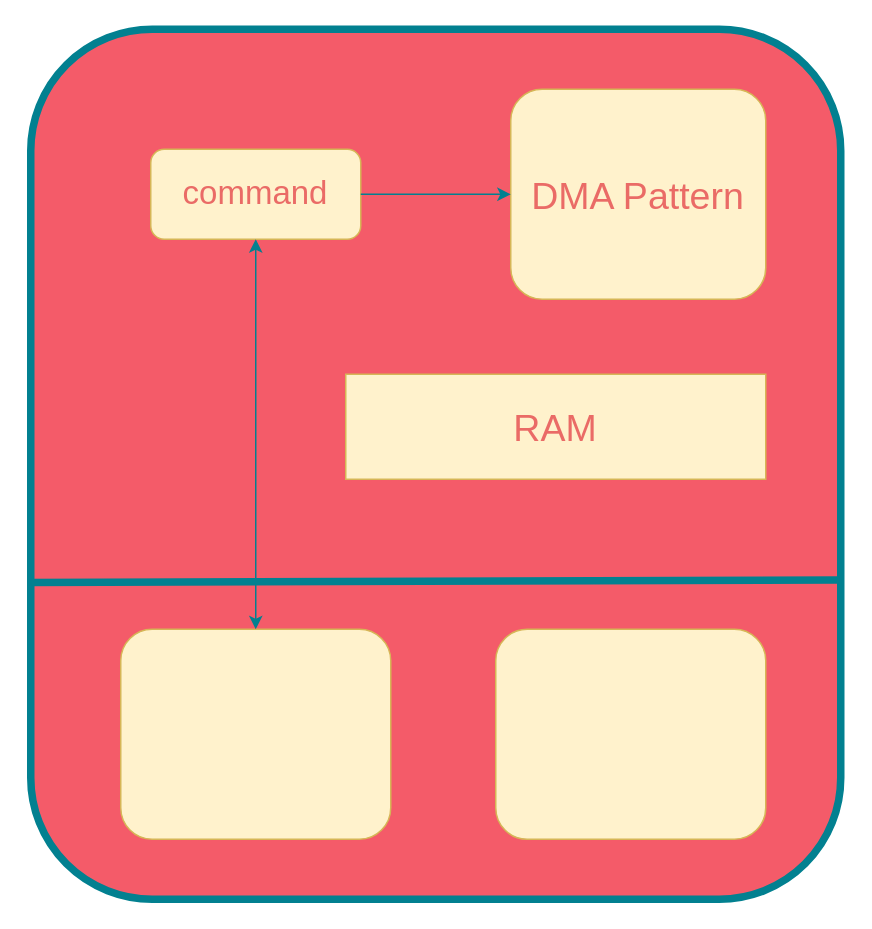
Some shapes in this 872 by 929 pixel diagram are drawn without their labels. The centre of each missing label's shape, as x and y in pixels:
device: the point at 630,733
fuzzing: the point at 255,733
